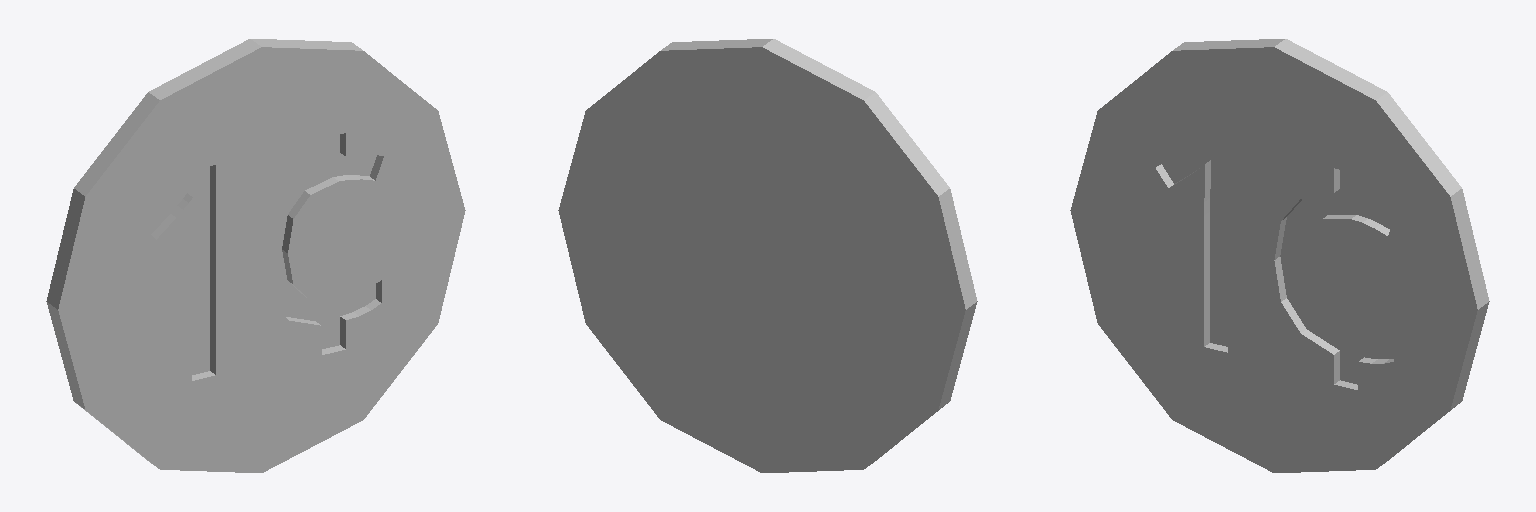
The picture shows the model from 3 angles: view 1: azimuth 30°, elevation 25°; view 2: azimuth 150°, elevation 25°; view 3: azimuth 330°, elevation 25°; orthographic projection.
Parts seen in each view (by area): view 1: group_0_undefined; view 2: group_0_undefined; view 3: group_0_undefined.
Part boxes in pixels (bbox=[...]): group_0_undefined: bbox=[46, 39, 465, 472]; group_0_undefined: bbox=[558, 39, 977, 472]; group_0_undefined: bbox=[1070, 39, 1489, 472].
Size of the model in its own units: 10 by 10 by 0.5.